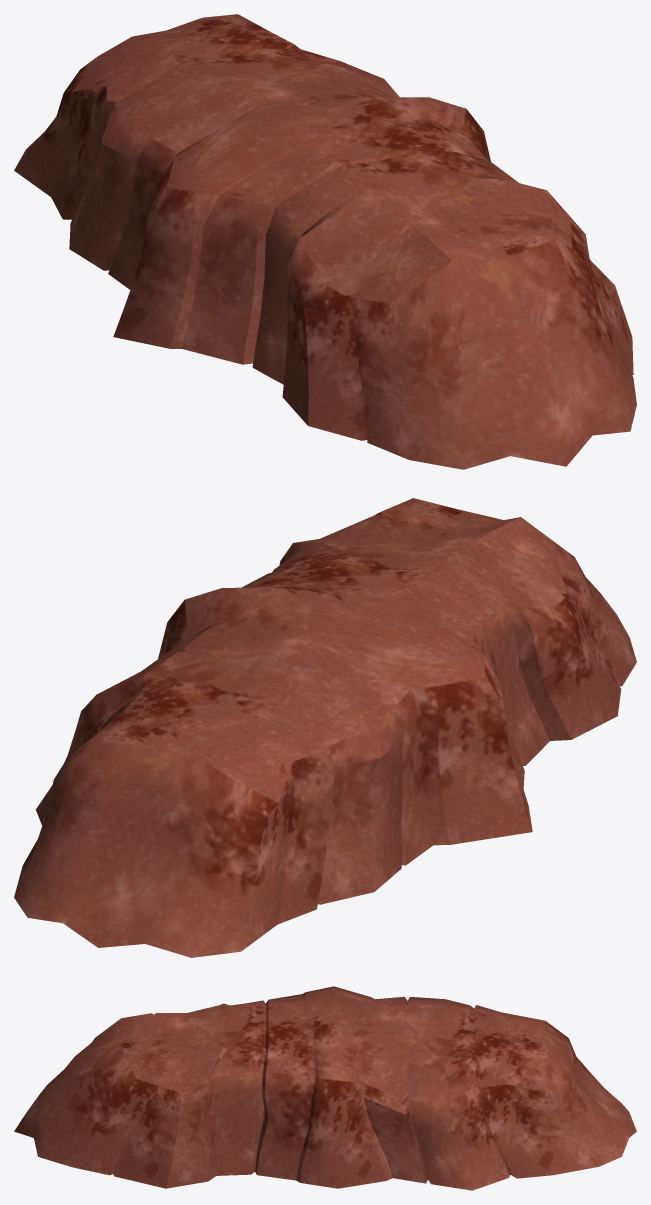
Rendered from Australia_Mountain.fbx.
3 views of the same model, one above another, from view 1: azimuth 30°, elevation 25°; view 2: azimuth 150°, elevation 25°; view 3: azimuth 270°, elevation 25° (orthographic). The views are drawn at different scales.
Parts seen in each view (by area): view 1: Mountain_Red; view 2: Mountain_Red; view 3: Mountain_Red.
Part boxes in pixels (<box>): Mountain_Red: <box>14,14,636,469</box>; Mountain_Red: <box>14,498,636,957</box>; Mountain_Red: <box>14,986,636,1190</box>.
Bounding box in the file's own units: 38.92 × 17.02 × 80.04.
